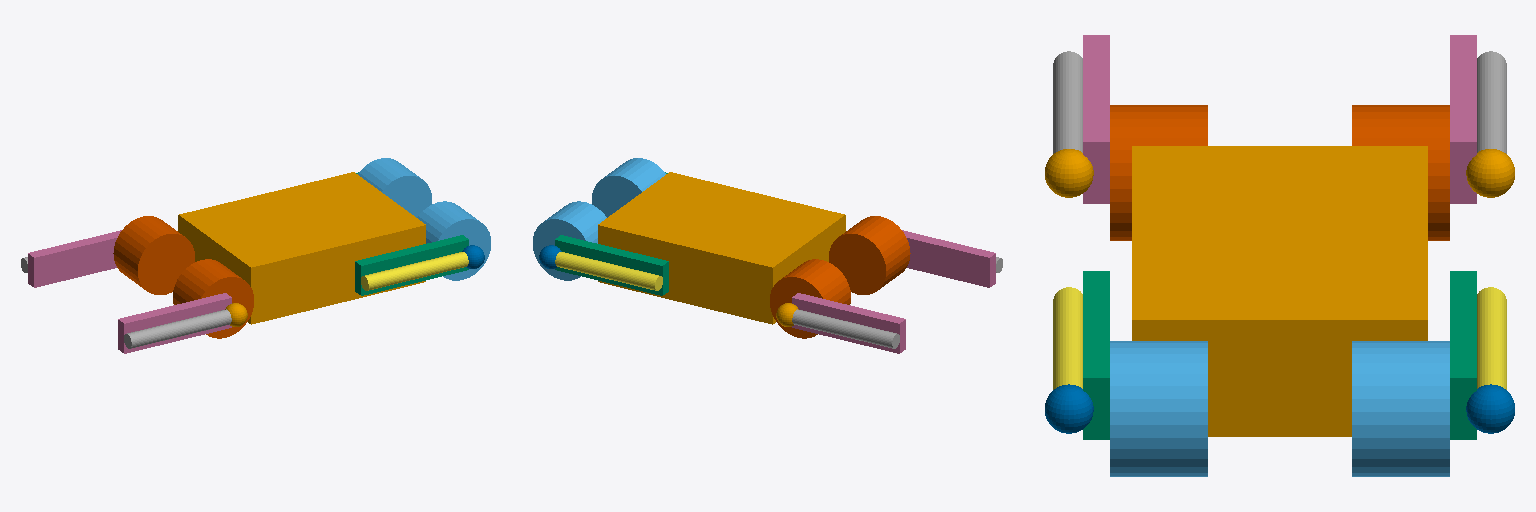
--- Facts derived from the render (not from the file) ---
Views: 3 orthographic renders of the robot side by side, from view 1: azimuth 30°, elevation 25°; view 2: azimuth 150°, elevation 25°; view 3: azimuth 270°, elevation 25°.
Robot: spirit40 — 17 links, 16 joints (12 revolute, 4 fixed); root link body; default pose: every joint at zero.
Links seen in each view (by area): view 1: body, hip1, upper1, hip3, hip2, upper2, upper3, hip0, lower3, lower2; view 2: body, hip3, upper3, hip1, hip0, upper0, upper1, hip2, lower1, lower0; view 3: body, hip0, hip2, hip1, hip3, upper0, upper2, upper1, upper3, lower1, lower3, lower0 (+5 smaller).
Link boxes in pixels (x1=…): body: x1=178, y1=172, x2=425, y2=324; hip1: x1=113, y1=216, x2=194, y2=294; upper1: x1=28, y1=230, x2=121, y2=287; hip3: x1=173, y1=259, x2=253, y2=338; hip2: x1=417, y1=201, x2=490, y2=280; upper2: x1=355, y1=235, x2=468, y2=295; upper3: x1=118, y1=293, x2=231, y2=353; hip0: x1=358, y1=158, x2=431, y2=217; lower3: x1=124, y1=309, x2=231, y2=348; lower2: x1=361, y1=252, x2=468, y2=290; body: x1=598, y1=172, x2=845, y2=324; hip3: x1=829, y1=216, x2=910, y2=294; upper3: x1=902, y1=230, x2=995, y2=287; hip1: x1=770, y1=259, x2=850, y2=338; hip0: x1=533, y1=201, x2=606, y2=280; upper0: x1=555, y1=235, x2=668, y2=295; upper1: x1=792, y1=293, x2=905, y2=353; hip2: x1=592, y1=158, x2=665, y2=217; lower1: x1=792, y1=309, x2=899, y2=348; lower0: x1=555, y1=252, x2=662, y2=290; body: x1=1132, y1=146, x2=1427, y2=436; hip0: x1=1352, y1=341, x2=1449, y2=476; hip2: x1=1110, y1=341, x2=1207, y2=476; hip1: x1=1352, y1=105, x2=1449, y2=240; hip3: x1=1110, y1=105, x2=1207, y2=240; upper0: x1=1450, y1=271, x2=1476, y2=439; upper2: x1=1083, y1=271, x2=1109, y2=439; upper1: x1=1450, y1=35, x2=1476, y2=203; upper3: x1=1083, y1=35, x2=1109, y2=203; lower1: x1=1477, y1=51, x2=1506, y2=153; lower3: x1=1053, y1=51, x2=1082, y2=153; lower0: x1=1477, y1=287, x2=1506, y2=389.
Size in the robot's own frame: 0.7136 by 0.382 by 0.11 metres.
Geometry: primitives only (box / cylinder / sphere), no mesh files.

The robot description file, URDF, robot "spirit40":
<?xml version="1.0" ?>
<!-- =================================================================================== -->
<!-- |    This document was autogenerated by xacro from spirit40_gazebo.urdf.xacro     | -->
<!-- |    EDITING THIS FILE BY HAND IS NOT RECOMMENDED                                 | -->
<!-- =================================================================================== -->
<!-- 
MIT License (modified)

Copyright (c) 2020 Ghost Robotics
Authors:
Avik De <[email redacted]>
Tom Jacobs <[email redacted]>

Permission is hereby granted, free of charge, to any person obtaining a copy
of this **file** (the "Software"), to deal
in the Software without restriction, including without limitation the rights
to use, copy, modify, merge, publish, distribute, sublicense, and/or sell
copies of the Software, and to permit persons to whom the Software is
furnished to do so, subject to the following conditions:

The above copyright notice and this permission notice shall be included in all
copies or substantial portions of the Software.

THE SOFTWARE IS PROVIDED "AS IS", WITHOUT WARRANTY OF ANY KIND, EXPRESS OR
IMPLIED, INCLUDING BUT NOT LIMITED TO THE WARRANTIES OF MERCHANTABILITY,
FITNESS FOR A PARTICULAR PURPOSE AND NONINFRINGEMENT. IN NO EVENT SHALL THE
AUTHORS OR COPYRIGHT HOLDERS BE LIABLE FOR ANY CLAIM, DAMAGES OR OTHER
LIABILITY, WHETHER IN AN ACTION OF CONTRACT, TORT OR OTHERWISE, ARISING FROM,
OUT OF OR IN CONNECTION WITH THE SOFTWARE OR THE USE OR OTHER DEALINGS IN THE
SOFTWARE. 
-->
<robot name="spirit40" xmlns:xacro="http://www.ros.org/wiki/xacro">
  <!-- Define parameters -->
  <!-- bodyLength + hipdx should be equal to front to back hip distance -->
  <!-- dy +  dPodAxisToEdge + upperLegWidth should be equal to the center to toe distance along y axis-->
  <!-- guess -->
  <!-- guess -->
  <!-- guess -->
  <!-- guess -->
  <!-- guess -->
  <!-- guess -->
  <!--visual only-->
  <!--center of pod cylinder to the ab axis-->
  <!-- Body -->
  <link name="body">
    <visual>
      <origin rpy="0 0 0" xyz="0 0 0"/>
      <geometry>
        <box size="0.335 0.24 0.104"/>
      </geometry>
      <material name="darkgray"/>
    </visual>
    <inertial>
      <mass value="5.75"/>
      <!-- Uniform box -->
      <!-- <inertia ixx="1/12*${bodyMass}*(${bodyWidth}*${bodyWidth} + ${bodyHeight}*${bodyHeight})"  ixy="0"  ixz="0" iyy="1/12*${bodyMass}*(${bodyLength}*${bodyLength} + ${bodyHeight}*${bodyHeight})" iyz="0" izz="1/12*${bodyMass}*(${bodyLength}*${bodyLength} + ${bodyWidth}*${bodyWidth})"/> -->
      <inertia ixx="0.05" ixy="0" ixz="0" iyy="0.1" iyz="0" izz="0.1"/>
    </inertial>
    <!-- Just copy geometry for collision -->
    <collision>
      <origin rpy="0 0 0" xyz="0 0 0"/>
      <geometry>
        <box size="0.335 0.24 0.104"/>
      </geometry>
    </collision>
  </link>
  <gazebo reference="body">
    <material>Gazebo/Black</material>
  </gazebo>
  <!-- Define our leg macro -->
  <!-- Our four legs -->
  <!-- Hip motor -->
  <link name="hip0">
    <visual>
      <origin rpy="1.5707963268 0 0" xyz="0.0 0.028 0"/>
      <geometry>
        <cylinder length="0.08" radius="0.055"/>
      </geometry>
    </visual>
    <collision>
      <origin rpy="1.5707963268 0 0" xyz="0 0.028 0"/>
      <geometry>
        <cylinder length="0.08" radius="0.055"/>
      </geometry>
    </collision>
    <inertial>
      <mass value="0.575"/>
      <!-- <inertia ixx="1/12*${podMass}*${podLength}*${podLength} + 1/4*${podMass}*${podRadius}*${podRadius}"  ixy="0"  ixz="0" iyy="1/12*${podMass}*${podLength}*${podLength} + 1/4*${podMass}*${podRadius}*${podRadius}" iyz="0" izz="1/2*${podMass}*${podRadius}*$
				{podRadius}" /> -->
      <inertia ixx="0.00066963541" ixy="0" ixz="0" iyy="0.00066963541" iyz="0" izz="0.0008696875"/>
    </inertial>
  </link>
  <gazebo reference="hip0">
    <material>Gazebo/Grey</material>
  </gazebo>
  <!-- Abduction joint. Joint names are: 8 9 10 11 -->
  <joint name="8" type="revolute">
    <parent link="body"/>
    <child link="hip0"/>
    <axis xyz="1 0 0"/>
    <origin xyz="0.2263 0.07 0"/>
    <limit effort="40" lower="-0.707" upper="0.707" velocity="30"/>
    <dynamics damping="0.0" friction="0.0"/>
  </joint>
  <!-- Transmission elements required for Gazebo -->
  <transmission name="transmission_8">
    <type>transmission_interface/SimpleTransmission</type>
    <joint name="8">
      <hardwareInterface>hardware_interface/EffortJointInterface</hardwareInterface>
    </joint>
    <actuator name="motor_8">
      <hardwareInterface>EffortJointInterface</hardwareInterface>
      <mechanicalReduction>1</mechanicalReduction>
    </actuator>
  </transmission>
  <!-- Upper leg -->
  <link name="upper0">
    <visual>
      <origin rpy="0 0 0" xyz="-0.103 -0.022 0"/>
      <geometry>
        <box size="0.206 0.022 0.055"/>
      </geometry>
      <material name="silver"/>
    </visual>
    <collision>
      <origin rpy="0 0 0" xyz="-0.103 -0.022 0"/>
      <geometry>
        <box size="0.206 0.022 0.055"/>
      </geometry>
    </collision>
    <inertial>
      <mass value="0.775"/>
      <inertia ixx="5e-05" ixy="0" ixz="0" iyy="0.001" iyz="0" izz="0.001"/>
    </inertial>
  </link>
  <gazebo reference="upper0">
    <material>Gazebo/DarkGrey</material>
  </gazebo>
  <!-- Hip joint. (Motor to upper leg). Joint names are: 0 2 4 6 -->
  <joint name="0" type="revolute">
    <parent link="hip0"/>
    <child link="upper0"/>
    <axis xyz="0 -1 0"/>
    <origin xyz="0.0 0.10098 0"/>
    <!--  rpy="0 -0.3 0" -->
    <limit effort="40" lower="-6.28318530718" upper="6.28318530718" velocity="30"/>
    <dynamics damping="0.0" friction="0.0"/>
  </joint>
  <!-- Transmission elements required for Gazebo -->
  <transmission name="transmission_0">
    <type>transmission_interface/SimpleTransmission</type>
    <joint name="0">
      <hardwareInterface>hardware_interface/EffortJointInterface</hardwareInterface>
    </joint>
    <actuator name="motor_0">
      <hardwareInterface>EffortJointInterface</hardwareInterface>
      <mechanicalReduction>1</mechanicalReduction>
    </actuator>
  </transmission>
  <!-- Lower leg -->
  <link name="lower0">
    <visual>
      <origin rpy="0 1.5707963268 0" xyz="0.103 0 0"/>
      <geometry>
        <cylinder length="0.206" radius="0.013"/>
      </geometry>
      <material name="darkgray"/>
    </visual>
    <collision>
      <origin rpy="0 1.5707963268 0" xyz="0.103 0 0"/>
      <geometry>
        <cylinder length="0.206" radius="0.013"/>
      </geometry>
    </collision>
    <inertial>
      <mass value="0.075"/>
      <inertia ixx="5e-06" ixy="0" ixz="0" iyy="0.0001" iyz="0" izz="0.0001"/>
    </inertial>
  </link>
  <gazebo reference="lower0">
    <material>Gazebo/Grey</material>
  </gazebo>
  <!-- Knee joint. Joint names are: 1 3 5 7 -->
  <joint name="1" type="revolute">
    <parent link="upper0"/>
    <child link="lower0"/>
    <axis xyz="0 1 0"/>
    <origin xyz="-0.206 0 0"/>
    <!--rpy="0 0.5 0"-->
    <limit effort="40" lower="0" upper="3.14159265359" velocity="30"/>
    <dynamics damping="0.0" friction="0.0"/>
  </joint>
  <!-- Transmission elements required for Gazebo -->
  <transmission name="transmission_1">
    <type>transmission_interface/SimpleTransmission</type>
    <joint name="1">
      <hardwareInterface>hardware_interface/EffortJointInterface</hardwareInterface>
    </joint>
    <actuator name="motor_1">
      <hardwareInterface>EffortJointInterface</hardwareInterface>
      <mechanicalReduction>1</mechanicalReduction>
    </actuator>
  </transmission>
  <!-- Toe -->
  <link name="toe0">
    <contact>
      <friction_anchor/>
      <stiffness value="30000.0"/>
      <damping value="1000.0"/>
      <spinning_friction value="0.3"/>
      <lateral_friction value="50.0"/>
    </contact>
    <visual>
      <origin rpy="0 0 0" xyz="0 0 0"/>
      <geometry>
        <sphere radius="0.02"/>
      </geometry>
      <material name="darkgray"/>
    </visual>
    <collision>
      <origin rpy="0 0 0" xyz="0 0 0"/>
      <geometry>
        <sphere radius="0.02"/>
      </geometry>
    </collision>
    <inertial>
      <mass value="0.015"/>
      <inertia ixx="0.000025" ixy="0" ixz="0" iyy="0.000025" iyz="0" izz="0.000025"/>
      <!-- <inertia ixx="2/5*${toeMass}*${toeRadius}*${toeRadius}"  ixy="0"  ixz="0" iyy="2/5*${toeMass}*${toeRadius}*${toeRadius}" iyz="0" izz="2/5*${toeMass}*${toeRadius}*${toeRadius}" /> -->
    </inertial>
  </link>
  <gazebo reference="toe0">
    <material>Gazebo/Black</material>
    <collision>
      <surface>
        <bounce>
          <restitution_coefficient>0</restitution_coefficient>
          <threshold>1e+06</threshold>
        </bounce>
        <friction>
          <torsional>
            <coefficient>0.3</coefficient>
          </torsional>
          <ode>
            <mu>100.0</mu>
            <mu2>50.0</mu2>
          </ode>
          <bullet>
            <rolling_friction>0.3</rolling_friction>
            <friction2>50.0</friction2>
          </bullet>
        </friction>
        <contact>
          <bullet>
            <kp>30000.0</kp>
            <kd>1000.0</kd>
          </bullet>
          <ode>
            <kp>30000.0</kp>
            <kd>1000.0</kd>
          </ode>
        </contact>
      </surface>
    </collision>
  </gazebo>
  <joint name="jtoe0" type="fixed">
    <parent link="lower0"/>
    <child link="toe0"/>
    <origin xyz="0.206 0 -0.0"/>
    <dynamics damping="0.0" friction="0.0"/>
  </joint>
  <!-- Hip motor -->
  <link name="hip1">
    <visual>
      <origin rpy="1.5707963268 0 0" xyz="-0.0 0.028 0"/>
      <geometry>
        <cylinder length="0.08" radius="0.055"/>
      </geometry>
    </visual>
    <collision>
      <origin rpy="1.5707963268 0 0" xyz="0 0.028 0"/>
      <geometry>
        <cylinder length="0.08" radius="0.055"/>
      </geometry>
    </collision>
    <inertial>
      <mass value="0.575"/>
      <!-- <inertia ixx="1/12*${podMass}*${podLength}*${podLength} + 1/4*${podMass}*${podRadius}*${podRadius}"  ixy="0"  ixz="0" iyy="1/12*${podMass}*${podLength}*${podLength} + 1/4*${podMass}*${podRadius}*${podRadius}" iyz="0" izz="1/2*${podMass}*${podRadius}*$
				{podRadius}" /> -->
      <inertia ixx="0.00066963541" ixy="0" ixz="0" iyy="0.00066963541" iyz="0" izz="0.0008696875"/>
    </inertial>
  </link>
  <gazebo reference="hip1">
    <material>Gazebo/Grey</material>
  </gazebo>
  <!-- Abduction joint. Joint names are: 8 9 10 11 -->
  <joint name="9" type="revolute">
    <parent link="body"/>
    <child link="hip1"/>
    <axis xyz="1 0 0"/>
    <origin xyz="-0.2263 0.07 0"/>
    <limit effort="40" lower="-0.707" upper="0.707" velocity="30"/>
    <dynamics damping="0.0" friction="0.0"/>
  </joint>
  <!-- Transmission elements required for Gazebo -->
  <transmission name="transmission_9">
    <type>transmission_interface/SimpleTransmission</type>
    <joint name="9">
      <hardwareInterface>hardware_interface/EffortJointInterface</hardwareInterface>
    </joint>
    <actuator name="motor_9">
      <hardwareInterface>EffortJointInterface</hardwareInterface>
      <mechanicalReduction>1</mechanicalReduction>
    </actuator>
  </transmission>
  <!-- Upper leg -->
  <link name="upper1">
    <visual>
      <origin rpy="0 0 0" xyz="-0.103 -0.022 0"/>
      <geometry>
        <box size="0.206 0.022 0.055"/>
      </geometry>
      <material name="silver"/>
    </visual>
    <collision>
      <origin rpy="0 0 0" xyz="-0.103 -0.022 0"/>
      <geometry>
        <box size="0.206 0.022 0.055"/>
      </geometry>
    </collision>
    <inertial>
      <mass value="0.775"/>
      <inertia ixx="5e-05" ixy="0" ixz="0" iyy="0.001" iyz="0" izz="0.001"/>
    </inertial>
  </link>
  <gazebo reference="upper1">
    <material>Gazebo/DarkGrey</material>
  </gazebo>
  <!-- Hip joint. (Motor to upper leg). Joint names are: 0 2 4 6 -->
  <joint name="2" type="revolute">
    <parent link="hip1"/>
    <child link="upper1"/>
    <axis xyz="0 -1 0"/>
    <origin xyz="-0.0 0.10098 0"/>
    <!--  rpy="0 -0.3 0" -->
    <limit effort="40" lower="-6.28318530718" upper="6.28318530718" velocity="30"/>
    <dynamics damping="0.0" friction="0.0"/>
  </joint>
  <!-- Transmission elements required for Gazebo -->
  <transmission name="transmission_2">
    <type>transmission_interface/SimpleTransmission</type>
    <joint name="2">
      <hardwareInterface>hardware_interface/EffortJointInterface</hardwareInterface>
    </joint>
    <actuator name="motor_2">
      <hardwareInterface>EffortJointInterface</hardwareInterface>
      <mechanicalReduction>1</mechanicalReduction>
    </actuator>
  </transmission>
  <!-- Lower leg -->
  <link name="lower1">
    <visual>
      <origin rpy="0 1.5707963268 0" xyz="0.103 0 0"/>
      <geometry>
        <cylinder length="0.206" radius="0.013"/>
      </geometry>
      <material name="darkgray"/>
    </visual>
    <collision>
      <origin rpy="0 1.5707963268 0" xyz="0.103 0 0"/>
      <geometry>
        <cylinder length="0.206" radius="0.013"/>
      </geometry>
    </collision>
    <inertial>
      <mass value="0.075"/>
      <inertia ixx="5e-06" ixy="0" ixz="0" iyy="0.0001" iyz="0" izz="0.0001"/>
    </inertial>
  </link>
  <gazebo reference="lower1">
    <material>Gazebo/Grey</material>
  </gazebo>
  <!-- Knee joint. Joint names are: 1 3 5 7 -->
  <joint name="3" type="revolute">
    <parent link="upper1"/>
    <child link="lower1"/>
    <axis xyz="0 1 0"/>
    <origin xyz="-0.206 0 0"/>
    <!--rpy="0 0.5 0"-->
    <limit effort="40" lower="0" upper="3.14159265359" velocity="30"/>
    <dynamics damping="0.0" friction="0.0"/>
  </joint>
  <!-- Transmission elements required for Gazebo -->
  <transmission name="transmission_3">
    <type>transmission_interface/SimpleTransmission</type>
    <joint name="3">
      <hardwareInterface>hardware_interface/EffortJointInterface</hardwareInterface>
    </joint>
    <actuator name="motor_3">
      <hardwareInterface>EffortJointInterface</hardwareInterface>
      <mechanicalReduction>1</mechanicalReduction>
    </actuator>
  </transmission>
  <!-- Toe -->
  <link name="toe1">
    <contact>
      <friction_anchor/>
      <stiffness value="30000.0"/>
      <damping value="1000.0"/>
      <spinning_friction value="0.3"/>
      <lateral_friction value="50.0"/>
    </contact>
    <visual>
      <origin rpy="0 0 0" xyz="0 0 0"/>
      <geometry>
        <sphere radius="0.02"/>
      </geometry>
      <material name="darkgray"/>
    </visual>
    <collision>
      <origin rpy="0 0 0" xyz="0 0 0"/>
      <geometry>
        <sphere radius="0.02"/>
      </geometry>
    </collision>
    <inertial>
      <mass value="0.015"/>
      <inertia ixx="0.000025" ixy="0" ixz="0" iyy="0.000025" iyz="0" izz="0.000025"/>
      <!-- <inertia ixx="2/5*${toeMass}*${toeRadius}*${toeRadius}"  ixy="0"  ixz="0" iyy="2/5*${toeMass}*${toeRadius}*${toeRadius}" iyz="0" izz="2/5*${toeMass}*${toeRadius}*${toeRadius}" /> -->
    </inertial>
  </link>
  <gazebo reference="toe1">
    <material>Gazebo/Black</material>
    <collision>
      <surface>
        <bounce>
          <restitution_coefficient>0</restitution_coefficient>
          <threshold>1e+06</threshold>
        </bounce>
        <friction>
          <torsional>
            <coefficient>0.3</coefficient>
          </torsional>
          <ode>
            <mu>100.0</mu>
            <mu2>50.0</mu2>
          </ode>
          <bullet>
            <rolling_friction>0.3</rolling_friction>
            <friction2>50.0</friction2>
          </bullet>
        </friction>
        <contact>
          <bullet>
            <kp>30000.0</kp>
            <kd>1000.0</kd>
          </bullet>
          <ode>
            <kp>30000.0</kp>
            <kd>1000.0</kd>
          </ode>
        </contact>
      </surface>
    </collision>
  </gazebo>
  <joint name="jtoe1" type="fixed">
    <parent link="lower1"/>
    <child link="toe1"/>
    <origin xyz="0.206 0 -0.0"/>
    <dynamics damping="0.0" friction="0.0"/>
  </joint>
  <!-- Hip motor -->
  <link name="hip2">
    <visual>
      <origin rpy="1.5707963268 0 0" xyz="0.0 -0.028 0"/>
      <geometry>
        <cylinder length="0.08" radius="0.055"/>
      </geometry>
    </visual>
    <collision>
      <origin rpy="1.5707963268 0 0" xyz="0 -0.028 0"/>
      <geometry>
        <cylinder length="0.08" radius="0.055"/>
      </geometry>
    </collision>
    <inertial>
      <mass value="0.575"/>
      <!-- <inertia ixx="1/12*${podMass}*${podLength}*${podLength} + 1/4*${podMass}*${podRadius}*${podRadius}"  ixy="0"  ixz="0" iyy="1/12*${podMass}*${podLength}*${podLength} + 1/4*${podMass}*${podRadius}*${podRadius}" iyz="0" izz="1/2*${podMass}*${podRadius}*$
				{podRadius}" /> -->
      <inertia ixx="0.00066963541" ixy="0" ixz="0" iyy="0.00066963541" iyz="0" izz="0.0008696875"/>
    </inertial>
  </link>
  <gazebo reference="hip2">
    <material>Gazebo/Grey</material>
  </gazebo>
  <!-- Abduction joint. Joint names are: 8 9 10 11 -->
  <joint name="10" type="revolute">
    <parent link="body"/>
    <child link="hip2"/>
    <axis xyz="1 0 0"/>
    <origin xyz="0.2263 -0.07 0"/>
    <limit effort="40" lower="-0.707" upper="0.707" velocity="30"/>
    <dynamics damping="0.0" friction="0.0"/>
  </joint>
  <!-- Transmission elements required for Gazebo -->
  <transmission name="transmission_10">
    <type>transmission_interface/SimpleTransmission</type>
    <joint name="10">
      <hardwareInterface>hardware_interface/EffortJointInterface</hardwareInterface>
    </joint>
    <actuator name="motor_10">
      <hardwareInterface>EffortJointInterface</hardwareInterface>
      <mechanicalReduction>1</mechanicalReduction>
    </actuator>
  </transmission>
  <!-- Upper leg -->
  <link name="upper2">
    <visual>
      <origin rpy="0 0 0" xyz="-0.103 0.022 0"/>
      <geometry>
        <box size="0.206 0.022 0.055"/>
      </geometry>
      <material name="silver"/>
    </visual>
    <collision>
      <origin rpy="0 0 0" xyz="-0.103 0.022 0"/>
      <geometry>
        <box size="0.206 0.022 0.055"/>
      </geometry>
    </collision>
    <inertial>
      <mass value="0.775"/>
      <inertia ixx="5e-05" ixy="0" ixz="0" iyy="0.001" iyz="0" izz="0.001"/>
    </inertial>
  </link>
  <gazebo reference="upper2">
    <material>Gazebo/DarkGrey</material>
  </gazebo>
  <!-- Hip joint. (Motor to upper leg). Joint names are: 0 2 4 6 -->
  <joint name="4" type="revolute">
    <parent link="hip2"/>
    <child link="upper2"/>
    <axis xyz="0 -1 0"/>
    <origin xyz="0.0 -0.10098 0"/>
    <!--  rpy="0 -0.3 0" -->
    <limit effort="40" lower="-6.28318530718" upper="6.28318530718" velocity="30"/>
    <dynamics damping="0.0" friction="0.0"/>
  </joint>
  <!-- Transmission elements required for Gazebo -->
  <transmission name="transmission_4">
    <type>transmission_interface/SimpleTransmission</type>
    <joint name="4">
      <hardwareInterface>hardware_interface/EffortJointInterface</hardwareInterface>
    </joint>
    <actuator name="motor_4">
      <hardwareInterface>EffortJointInterface</hardwareInterface>
      <mechanicalReduction>1</mechanicalReduction>
    </actuator>
  </transmission>
  <!-- Lower leg -->
  <link name="lower2">
    <visual>
      <origin rpy="0 1.5707963268 0" xyz="0.103 0 0"/>
      <geometry>
        <cylinder length="0.206" radius="0.013"/>
      </geometry>
      <material name="darkgray"/>
    </visual>
    <collision>
      <origin rpy="0 1.5707963268 0" xyz="0.103 0 0"/>
      <geometry>
        <cylinder length="0.206" radius="0.013"/>
      </geometry>
    </collision>
    <inertial>
      <mass value="0.075"/>
      <inertia ixx="5e-06" ixy="0" ixz="0" iyy="0.0001" iyz="0" izz="0.0001"/>
    </inertial>
  </link>
  <gazebo reference="lower2">
    <material>Gazebo/Grey</material>
  </gazebo>
  <!-- Knee joint. Joint names are: 1 3 5 7 -->
  <joint name="5" type="revolute">
    <parent link="upper2"/>
    <child link="lower2"/>
    <axis xyz="0 1 0"/>
    <origin xyz="-0.206 0 0"/>
    <!--rpy="0 0.5 0"-->
    <limit effort="40" lower="0" upper="3.14159265359" velocity="30"/>
    <dynamics damping="0.0" friction="0.0"/>
  </joint>
  <!-- Transmission elements required for Gazebo -->
  <transmission name="transmission_5">
    <type>transmission_interface/SimpleTransmission</type>
    <joint name="5">
      <hardwareInterface>hardware_interface/EffortJointInterface</hardwareInterface>
    </joint>
    <actuator name="motor_5">
      <hardwareInterface>EffortJointInterface</hardwareInterface>
      <mechanicalReduction>1</mechanicalReduction>
    </actuator>
  </transmission>
  <!-- Toe -->
  <link name="toe2">
    <contact>
      <friction_anchor/>
      <stiffness value="30000.0"/>
      <damping value="1000.0"/>
      <spinning_friction value="0.3"/>
      <lateral_friction value="50.0"/>
    </contact>
    <visual>
      <origin rpy="0 0 0" xyz="0 0 0"/>
      <geometry>
        <sphere radius="0.02"/>
      </geometry>
      <material name="darkgray"/>
    </visual>
    <collision>
      <origin rpy="0 0 0" xyz="0 0 0"/>
      <geometry>
        <sphere radius="0.02"/>
      </geometry>
    </collision>
    <inertial>
      <mass value="0.015"/>
      <inertia ixx="0.000025" ixy="0" ixz="0" iyy="0.000025" iyz="0" izz="0.000025"/>
      <!-- <inertia ixx="2/5*${toeMass}*${toeRadius}*${toeRadius}"  ixy="0"  ixz="0" iyy="2/5*${toeMass}*${toeRadius}*${toeRadius}" iyz="0" izz="2/5*${toeMass}*${toeRadius}*${toeRadius}" /> -->
    </inertial>
  </link>
  <gazebo reference="toe2">
    <material>Gazebo/Black</material>
    <collision>
      <surface>
        <bounce>
          <restitution_coefficient>0</restitution_coefficient>
          <threshold>1e+06</threshold>
        </bounce>
        <friction>
          <torsional>
            <coefficient>0.3</coefficient>
          </torsional>
          <ode>
            <mu>100.0</mu>
            <mu2>50.0</mu2>
          </ode>
          <bullet>
            <rolling_friction>0.3</rolling_friction>
            <friction2>50.0</friction2>
          </bullet>
        </friction>
        <contact>
          <bullet>
            <kp>30000.0</kp>
            <kd>1000.0</kd>
          </bullet>
          <ode>
            <kp>30000.0</kp>
            <kd>1000.0</kd>
          </ode>
        </contact>
      </surface>
    </collision>
  </gazebo>
  <joint name="jtoe2" type="fixed">
    <parent link="lower2"/>
    <child link="toe2"/>
    <origin xyz="0.206 0 -0.0"/>
    <dynamics damping="0.0" friction="0.0"/>
  </joint>
  <!-- Hip motor -->
  <link name="hip3">
    <visual>
      <origin rpy="1.5707963268 0 0" xyz="-0.0 -0.028 0"/>
      <geometry>
        <cylinder length="0.08" radius="0.055"/>
      </geometry>
    </visual>
    <collision>
      <origin rpy="1.5707963268 0 0" xyz="0 -0.028 0"/>
      <geometry>
        <cylinder length="0.08" radius="0.055"/>
      </geometry>
    </collision>
    <inertial>
      <mass value="0.575"/>
      <!-- <inertia ixx="1/12*${podMass}*${podLength}*${podLength} + 1/4*${podMass}*${podRadius}*${podRadius}"  ixy="0"  ixz="0" iyy="1/12*${podMass}*${podLength}*${podLength} + 1/4*${podMass}*${podRadius}*${podRadius}" iyz="0" izz="1/2*${podMass}*${podRadius}*$
				{podRadius}" /> -->
      <inertia ixx="0.00066963541" ixy="0" ixz="0" iyy="0.00066963541" iyz="0" izz="0.0008696875"/>
    </inertial>
  </link>
  <gazebo reference="hip3">
    <material>Gazebo/Grey</material>
  </gazebo>
  <!-- Abduction joint. Joint names are: 8 9 10 11 -->
  <joint name="11" type="revolute">
    <parent link="body"/>
    <child link="hip3"/>
    <axis xyz="1 0 0"/>
    <origin xyz="-0.2263 -0.07 0"/>
    <limit effort="40" lower="-0.707" upper="0.707" velocity="30"/>
    <dynamics damping="0.0" friction="0.0"/>
  </joint>
  <!-- Transmission elements required for Gazebo -->
  <transmission name="transmission_11">
    <type>transmission_interface/SimpleTransmission</type>
    <joint name="11">
      <hardwareInterface>hardware_interface/EffortJointInterface</hardwareInterface>
    </joint>
    <actuator name="motor_11">
      <hardwareInterface>EffortJointInterface</hardwareInterface>
      <mechanicalReduction>1</mechanicalReduction>
    </actuator>
  </transmission>
  <!-- Upper leg -->
  <link name="upper3">
    <visual>
      <origin rpy="0 0 0" xyz="-0.103 0.022 0"/>
      <geometry>
        <box size="0.206 0.022 0.055"/>
      </geometry>
      <material name="silver"/>
    </visual>
    <collision>
      <origin rpy="0 0 0" xyz="-0.103 0.022 0"/>
      <geometry>
        <box size="0.206 0.022 0.055"/>
      </geometry>
    </collision>
    <inertial>
      <mass value="0.775"/>
      <inertia ixx="5e-05" ixy="0" ixz="0" iyy="0.001" iyz="0" izz="0.001"/>
    </inertial>
  </link>
  <gazebo reference="upper3">
    <material>Gazebo/DarkGrey</material>
  </gazebo>
  <!-- Hip joint. (Motor to upper leg). Joint names are: 0 2 4 6 -->
  <joint name="6" type="revolute">
    <parent link="hip3"/>
    <child link="upper3"/>
    <axis xyz="0 -1 0"/>
    <origin xyz="-0.0 -0.10098 0"/>
    <!--  rpy="0 -0.3 0" -->
    <limit effort="40" lower="-6.28318530718" upper="6.28318530718" velocity="30"/>
    <dynamics damping="0.0" friction="0.0"/>
  </joint>
  <!-- Transmission elements required for Gazebo -->
  <transmission name="transmission_6">
    <type>transmission_interface/SimpleTransmission</type>
    <joint name="6">
      <hardwareInterface>hardware_interface/EffortJointInterface</hardwareInterface>
    </joint>
    <actuator name="motor_6">
      <hardwareInterface>EffortJointInterface</hardwareInterface>
      <mechanicalReduction>1</mechanicalReduction>
    </actuator>
  </transmission>
  <!-- Lower leg -->
  <link name="lower3">
    <visual>
      <origin rpy="0 1.5707963268 0" xyz="0.103 0 0"/>
      <geometry>
        <cylinder length="0.206" radius="0.013"/>
      </geometry>
      <material name="darkgray"/>
    </visual>
    <collision>
      <origin rpy="0 1.5707963268 0" xyz="0.103 0 0"/>
      <geometry>
        <cylinder length="0.206" radius="0.013"/>
      </geometry>
    </collision>
    <inertial>
      <mass value="0.075"/>
      <inertia ixx="5e-06" ixy="0" ixz="0" iyy="0.0001" iyz="0" izz="0.0001"/>
    </inertial>
  </link>
  <gazebo reference="lower3">
    <material>Gazebo/Grey</material>
  </gazebo>
  <!-- Knee joint. Joint names are: 1 3 5 7 -->
  <joint name="7" type="revolute">
    <parent link="upper3"/>
    <child link="lower3"/>
    <axis xyz="0 1 0"/>
    <origin xyz="-0.206 0 0"/>
    <!--rpy="0 0.5 0"-->
    <limit effort="40" lower="0" upper="3.14159265359" velocity="30"/>
    <dynamics damping="0.0" friction="0.0"/>
  </joint>
  <!-- Transmission elements required for Gazebo -->
  <transmission name="transmission_7">
    <type>transmission_interface/SimpleTransmission</type>
    <joint name="7">
      <hardwareInterface>hardware_interface/EffortJointInterface</hardwareInterface>
    </joint>
    <actuator name="motor_7">
      <hardwareInterface>EffortJointInterface</hardwareInterface>
      <mechanicalReduction>1</mechanicalReduction>
    </actuator>
  </transmission>
  <!-- Toe -->
  <link name="toe3">
    <contact>
      <friction_anchor/>
      <stiffness value="30000.0"/>
      <damping value="1000.0"/>
      <spinning_friction value="0.3"/>
      <lateral_friction value="50.0"/>
    </contact>
    <visual>
      <origin rpy="0 0 0" xyz="0 0 0"/>
      <geometry>
        <sphere radius="0.02"/>
      </geometry>
      <material name="darkgray"/>
    </visual>
    <collision>
      <origin rpy="0 0 0" xyz="0 0 0"/>
      <geometry>
        <sphere radius="0.02"/>
      </geometry>
    </collision>
    <inertial>
      <mass value="0.015"/>
      <inertia ixx="0.000025" ixy="0" ixz="0" iyy="0.000025" iyz="0" izz="0.000025"/>
      <!-- <inertia ixx="2/5*${toeMass}*${toeRadius}*${toeRadius}"  ixy="0"  ixz="0" iyy="2/5*${toeMass}*${toeRadius}*${toeRadius}" iyz="0" izz="2/5*${toeMass}*${toeRadius}*${toeRadius}" /> -->
    </inertial>
  </link>
  <gazebo reference="toe3">
    <material>Gazebo/Black</material>
    <collision>
      <surface>
        <bounce>
          <restitution_coefficient>0</restitution_coefficient>
          <threshold>1e+06</threshold>
        </bounce>
        <friction>
          <torsional>
            <coefficient>0.3</coefficient>
          </torsional>
          <ode>
            <mu>100.0</mu>
            <mu2>50.0</mu2>
          </ode>
          <bullet>
            <rolling_friction>0.3</rolling_friction>
            <friction2>50.0</friction2>
          </bullet>
        </friction>
        <contact>
          <bullet>
            <kp>30000.0</kp>
            <kd>1000.0</kd>
          </bullet>
          <ode>
            <kp>30000.0</kp>
            <kd>1000.0</kd>
          </ode>
        </contact>
      </surface>
    </collision>
  </gazebo>
  <joint name="jtoe3" type="fixed">
    <parent link="lower3"/>
    <child link="toe3"/>
    <origin xyz="0.206 0 -0.0"/>
    <dynamics damping="0.0" friction="0.0"/>
  </joint>
  <!-- Add ros_control plugin -->
  <gazebo>
    <plugin filename="libgazebo_ros_control.so" name="gazebo_ros_control">
      <robotNamespace>/spirit40</robotNamespace>
    </plugin>
  </gazebo>
</robot>
